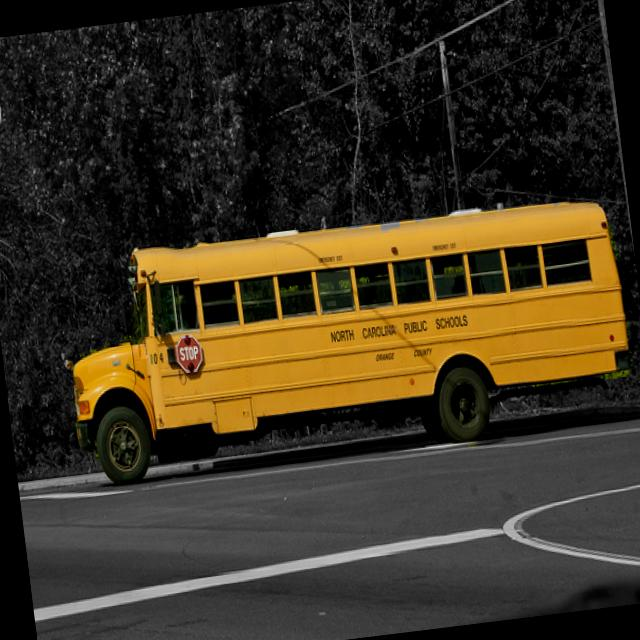Vehicle: (57, 187, 640, 491)
